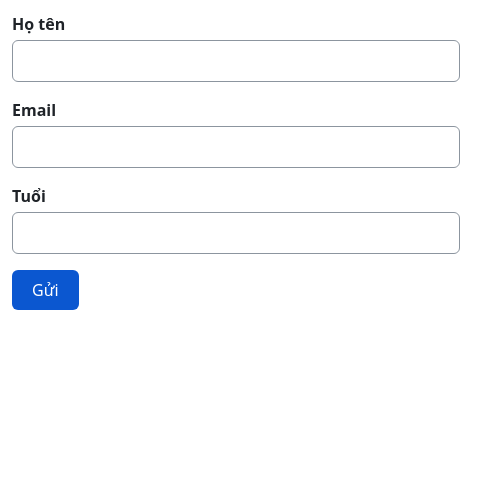
it: SimpleForm › inspector giữ dữ liệu TẠI LÚC GỬI: gõ tiếp không đổi, Gửi lại mới cập nhật
In the field labelled "Họ tên": coordinates (236, 61) [12,40,460,82], type "An"
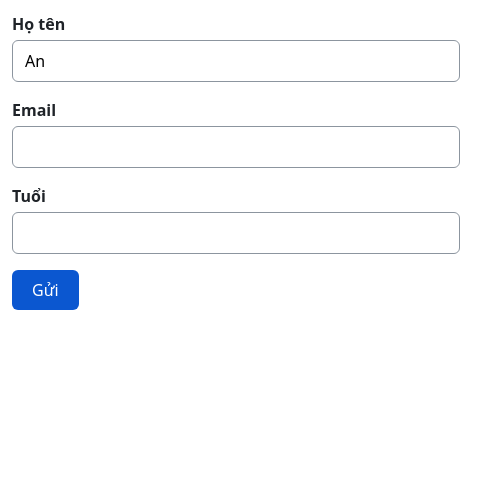
In the field labelled "Email": coordinates (236, 147) [12,126,460,168], type "an@example.com"
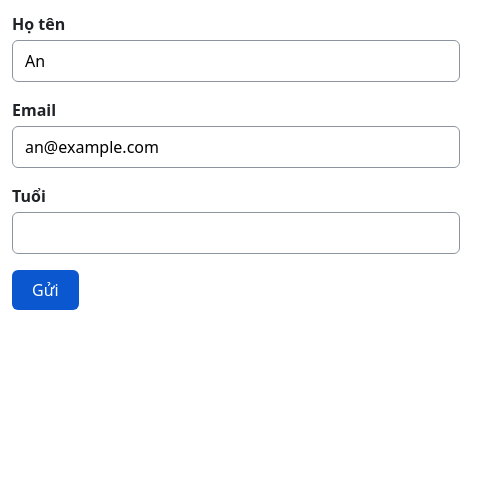
In the field labelled "Tuổi": coordinates (236, 233) [12,212,460,254], type "25"
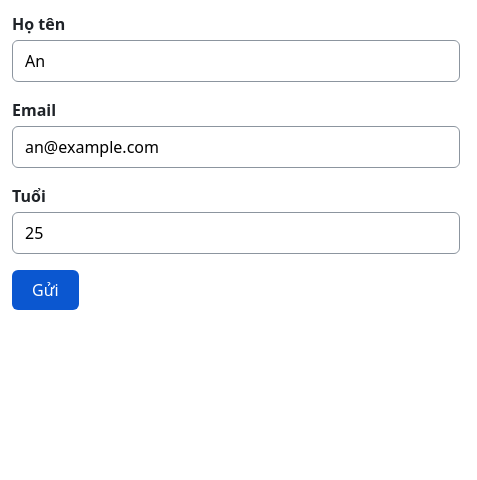
Click the button "Gửi": coordinates (45, 290) [12,270,79,310]
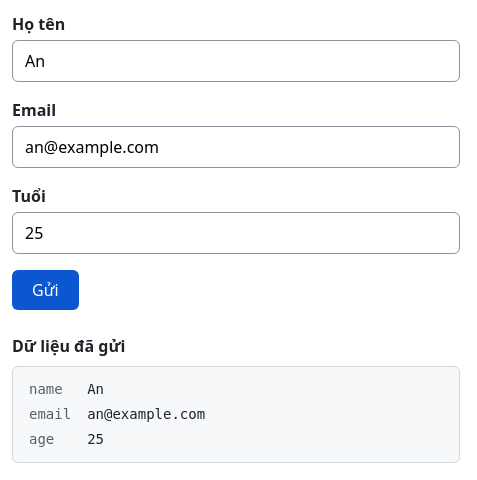
Replace the text in the field labelled "Họ tên" with "Bình": coordinates (236, 61) [12,40,460,82]
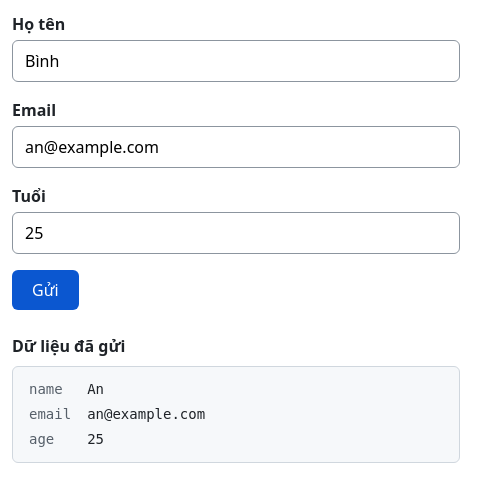
Expected: the text "An" is shown, [87,381,104,397]
Click the button "Gửi": coordinates (45, 290) [12,270,79,310]
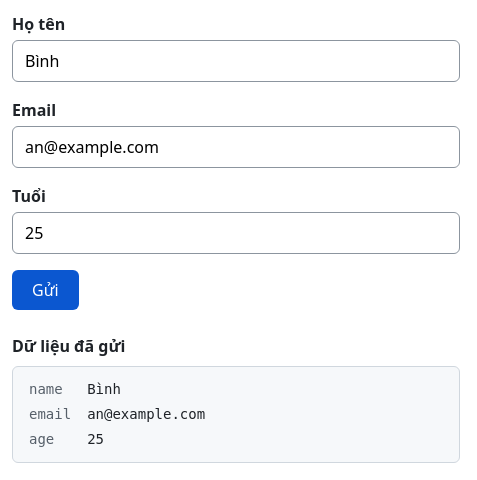
Expected: the text "Bình" is shown, [87,381,121,397]
